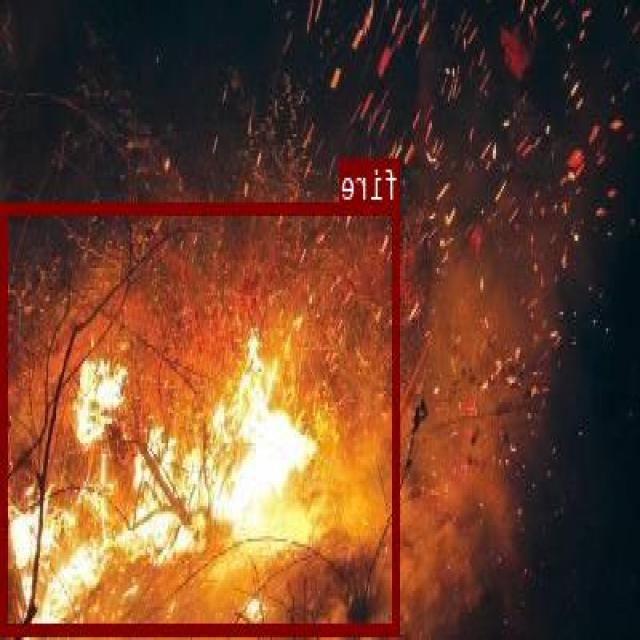fire: (3, 202, 401, 632)
